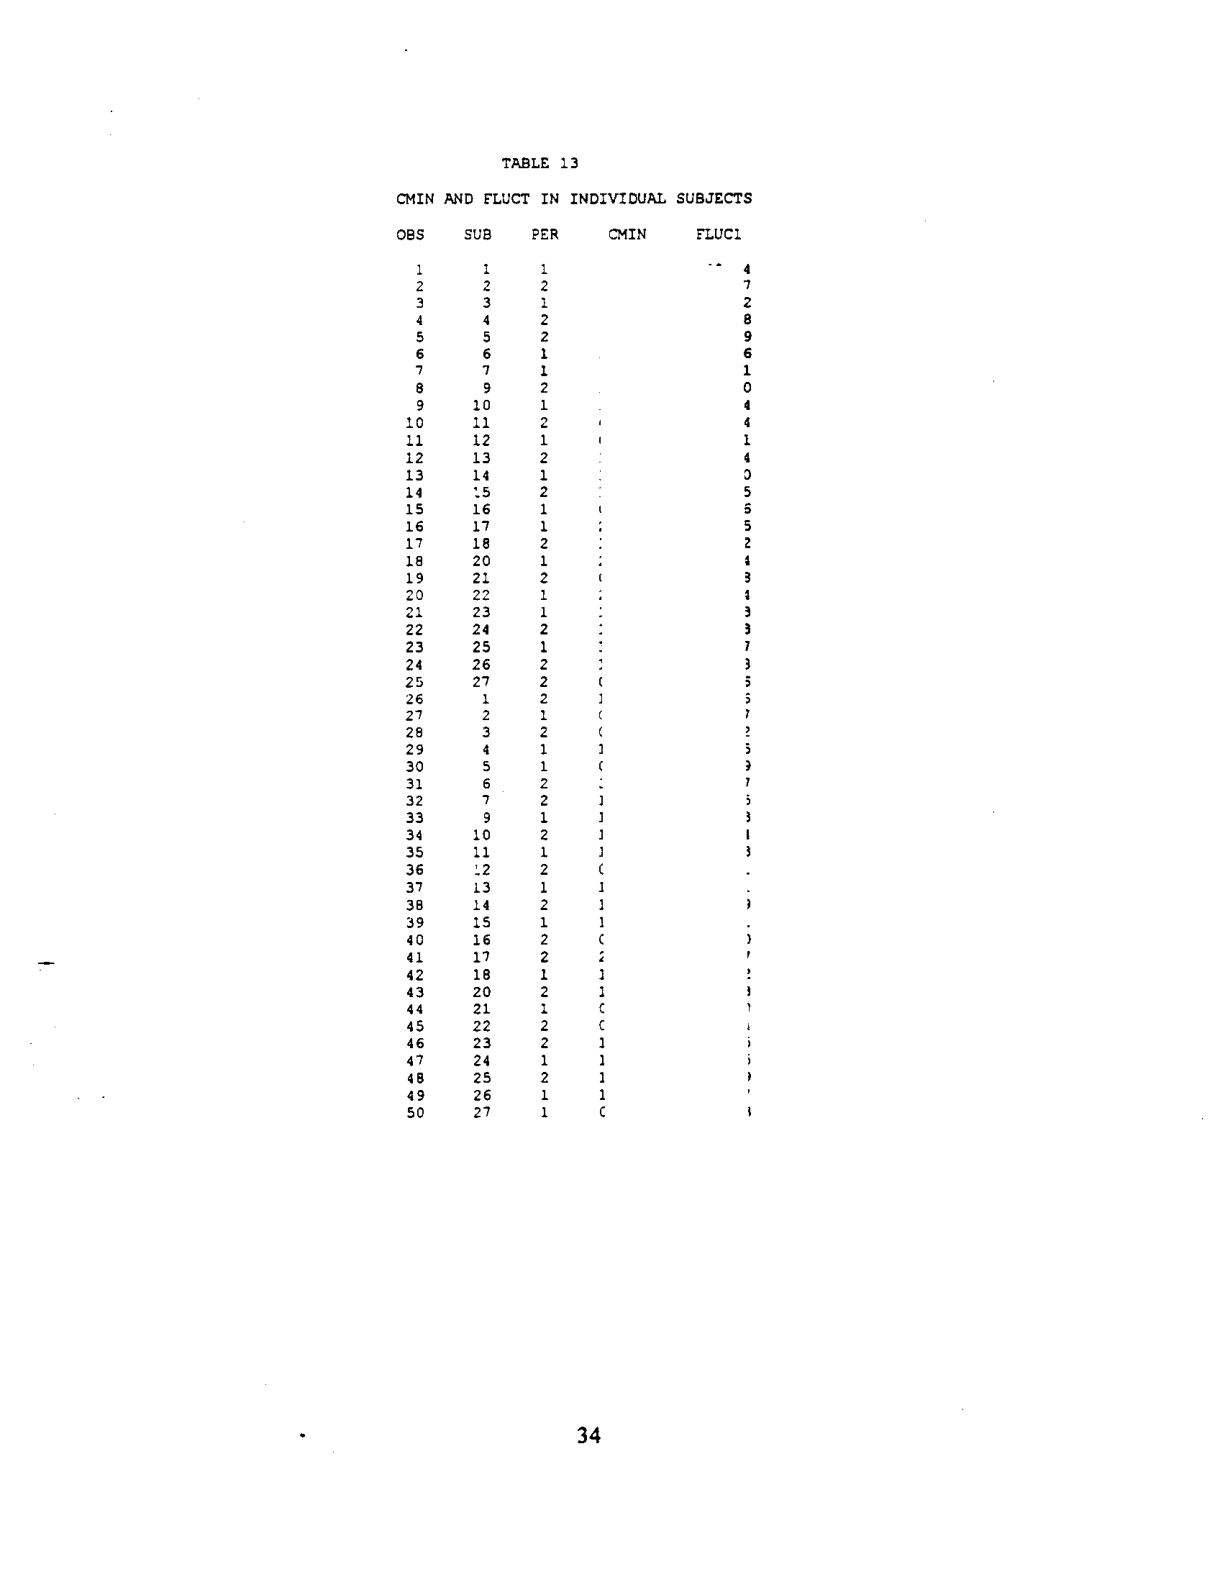nolines: (389, 190, 758, 1125)
